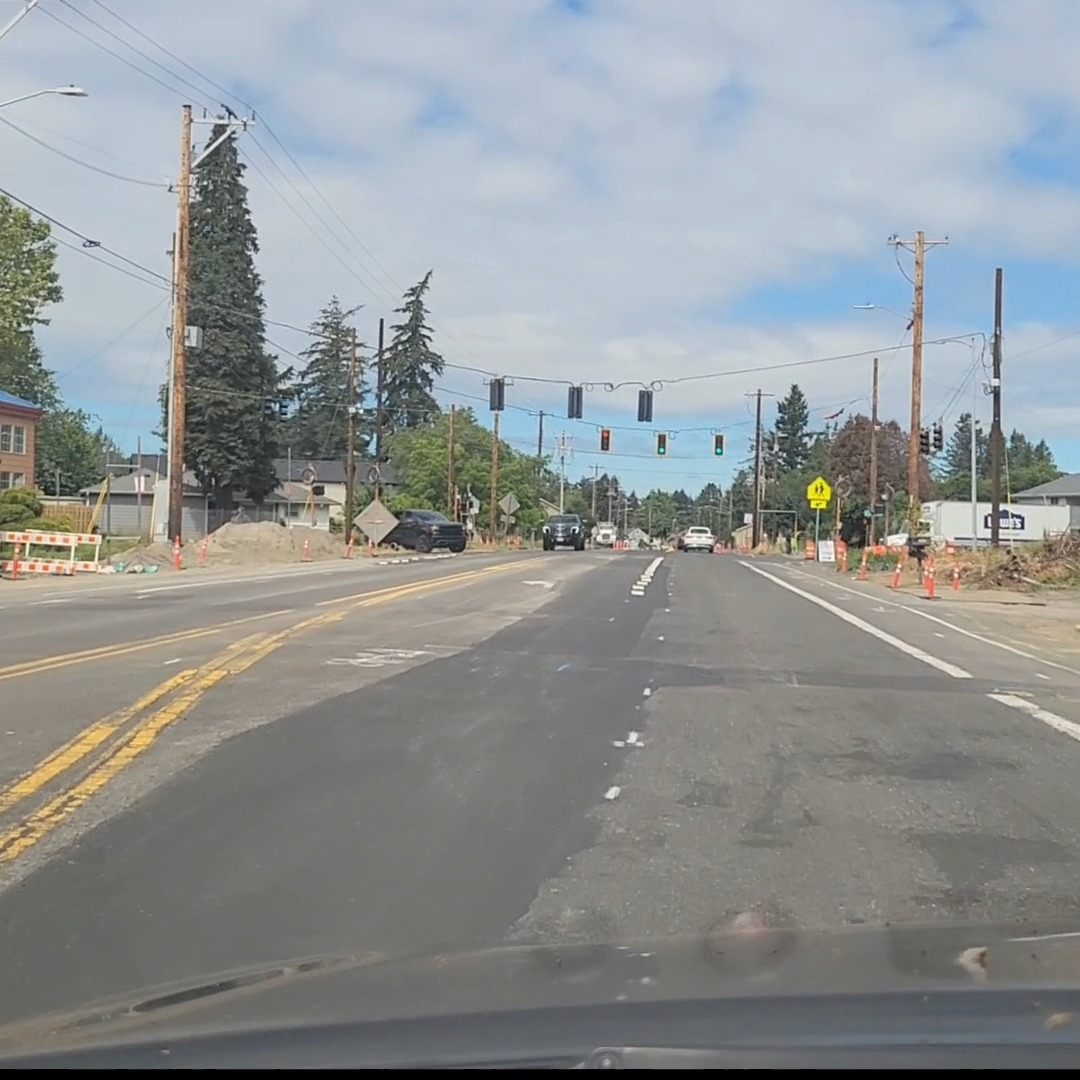car: (382, 510, 464, 552), (540, 513, 586, 550), (677, 526, 716, 552), (593, 521, 617, 547)
crosswalk-sign: (806, 476, 831, 509)
delineator: (922, 563, 936, 598), (10, 543, 22, 579), (857, 546, 870, 579), (890, 557, 902, 588), (197, 535, 208, 566), (172, 537, 182, 570), (300, 536, 312, 561), (950, 562, 960, 591), (342, 536, 354, 559), (367, 538, 375, 556), (747, 541, 756, 555)
